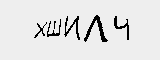И: (62, 13, 86, 41)
Л: (84, 15, 111, 44)
Х: (32, 20, 49, 39)
Ч: (110, 13, 134, 41)
Ш: (46, 16, 64, 37)
